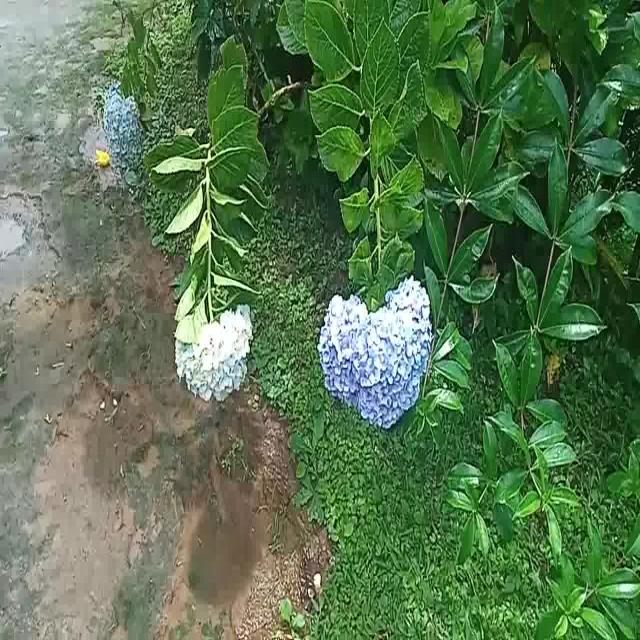Flower: (320, 270, 432, 431), (175, 310, 251, 403), (102, 82, 142, 150)
